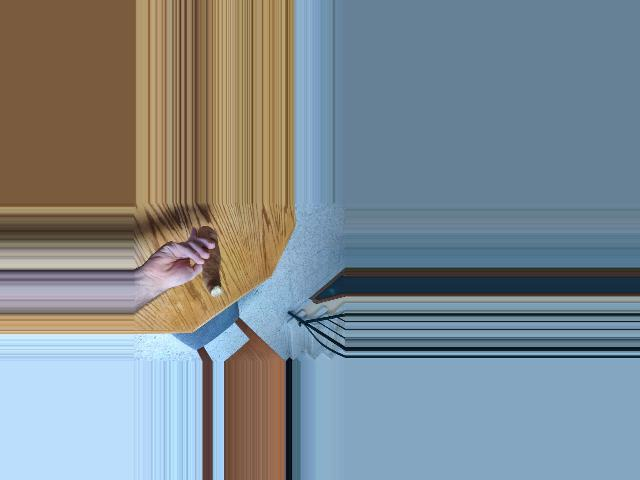sweet_potato: (199, 226, 221, 302)
